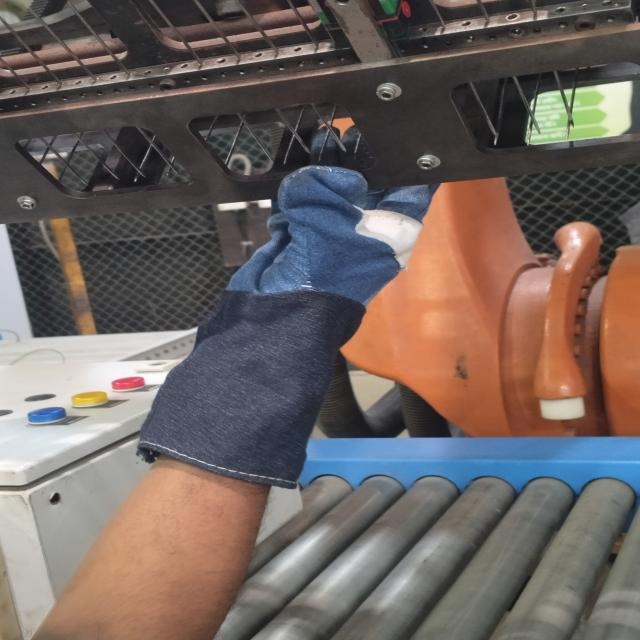Gloves-Detection: (129, 141, 379, 498)
